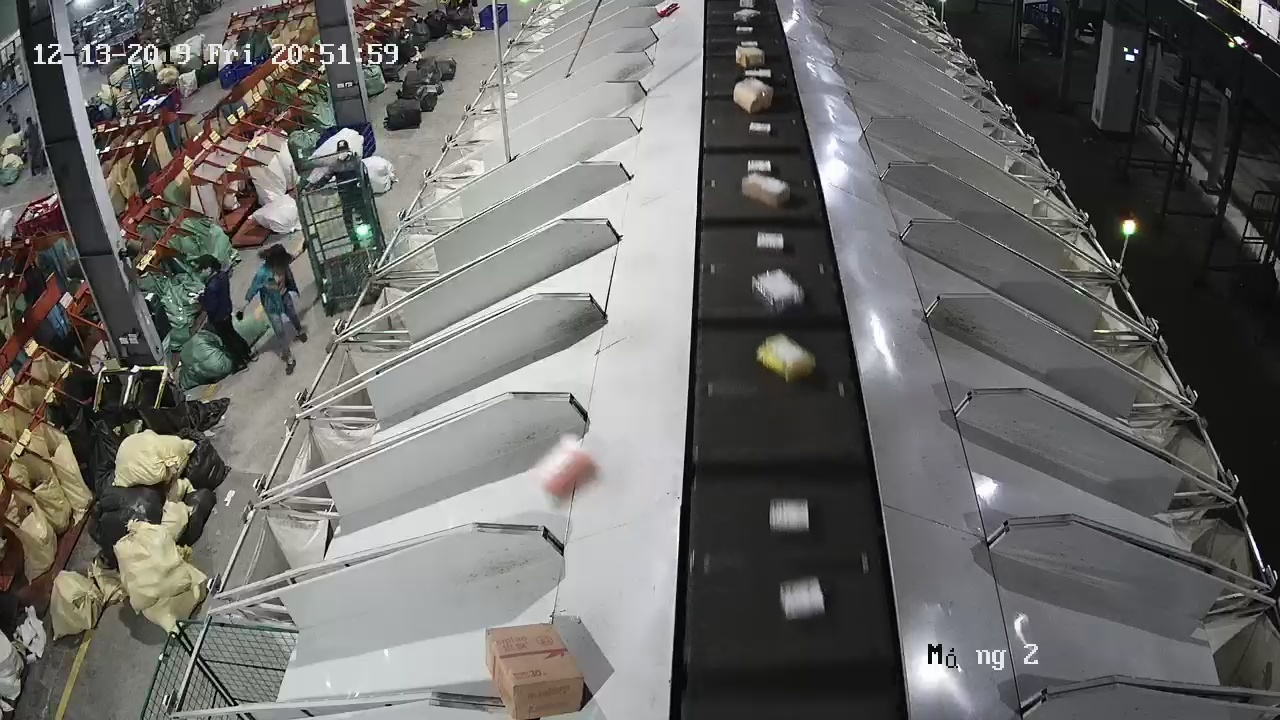parcel: (535, 434, 597, 500)
